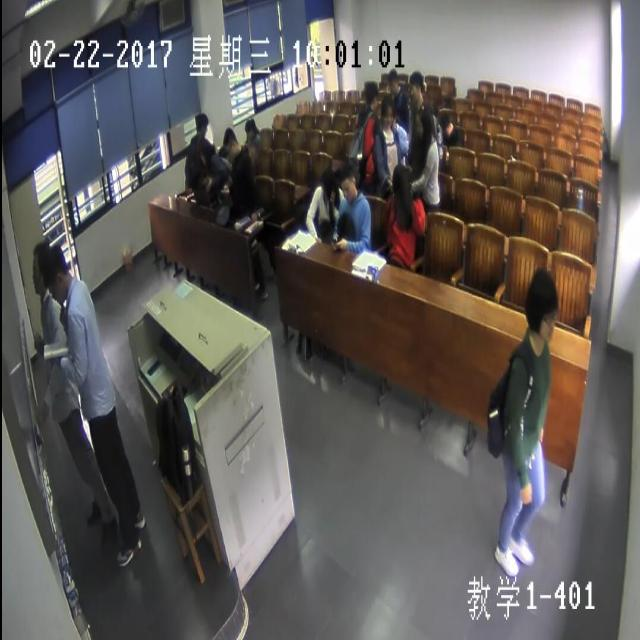person: (525, 265, 559, 344), (41, 242, 70, 304), (28, 241, 50, 295), (388, 158, 409, 198), (412, 107, 434, 142), (342, 164, 359, 205), (320, 165, 338, 201), (223, 124, 240, 159), (378, 95, 395, 128), (193, 108, 209, 142), (407, 70, 424, 100), (363, 79, 378, 107), (439, 109, 454, 137), (385, 65, 399, 93), (199, 140, 213, 167), (243, 117, 257, 143)
